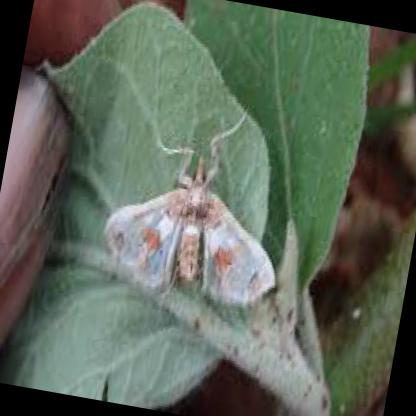leucinodes: (102, 140, 275, 304)
